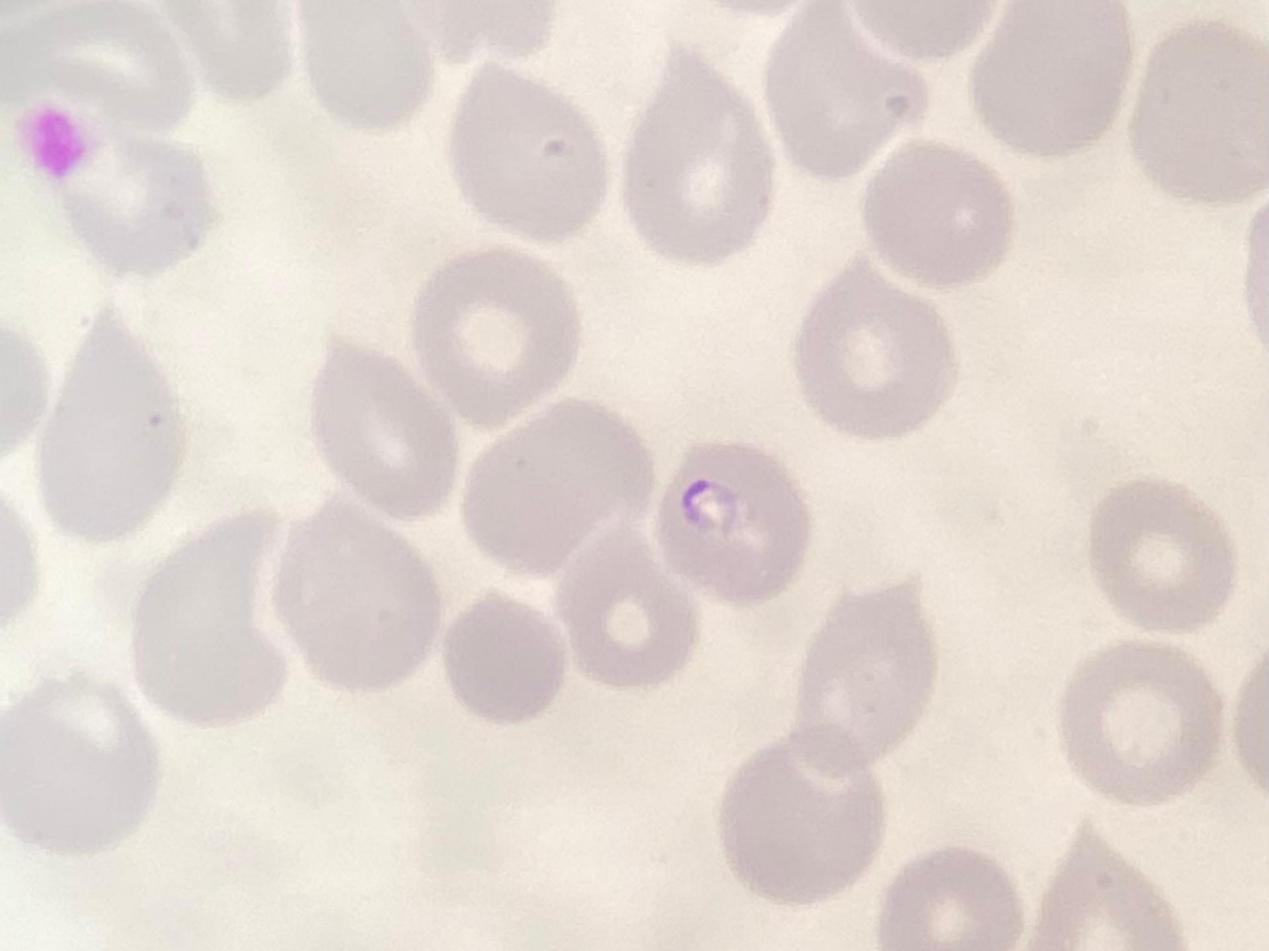Infected: (657, 440, 811, 605)
Uninfected: (34, 309, 189, 543), (129, 509, 293, 730), (460, 400, 656, 584), (272, 496, 448, 697), (617, 43, 777, 264), (445, 54, 612, 243), (307, 334, 468, 524), (410, 250, 582, 423), (793, 261, 958, 440), (763, 3, 925, 181), (0, 673, 156, 855), (3, 1, 201, 141), (792, 583, 939, 769), (717, 737, 883, 901), (1129, 18, 1269, 204), (973, 1, 1134, 161), (1058, 643, 1215, 804), (555, 525, 701, 691), (52, 128, 213, 276), (1087, 478, 1234, 628), (861, 143, 1013, 287), (1028, 824, 1186, 947), (299, 1, 438, 132), (440, 594, 569, 725), (878, 846, 1019, 948), (154, 3, 289, 107)
